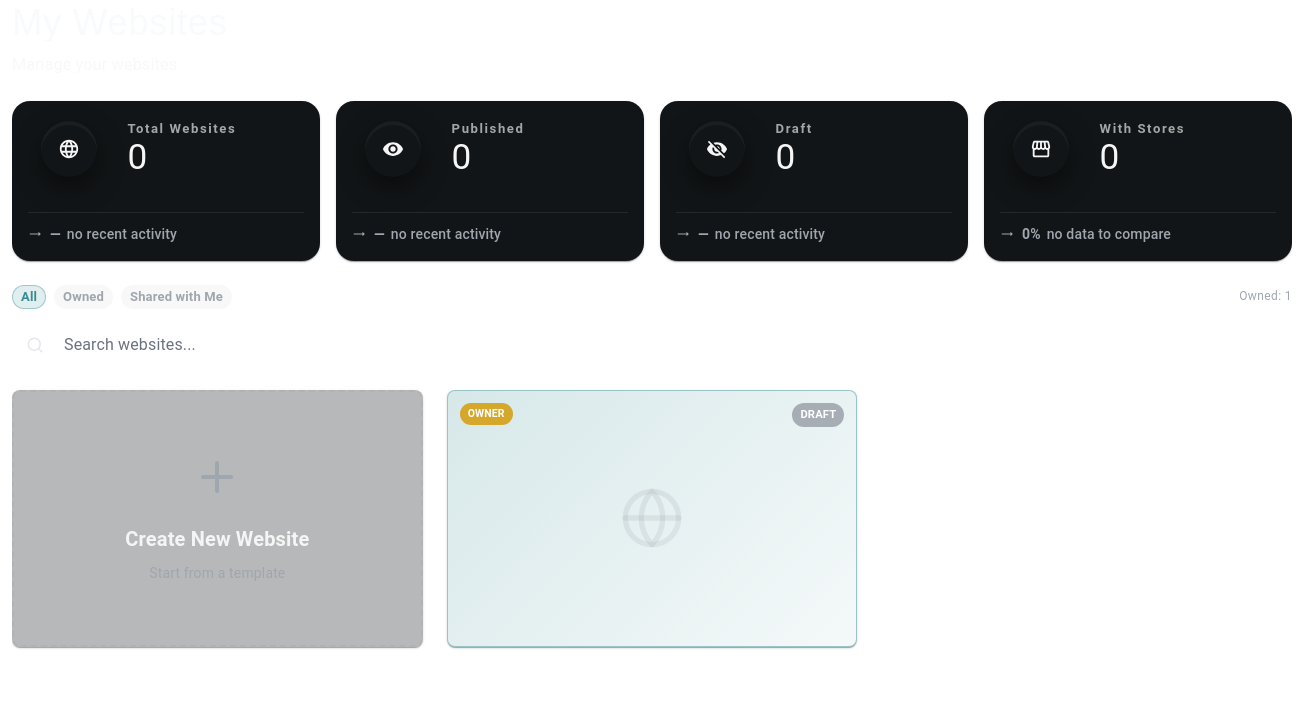
Websites Multi-Tenancy (Step 7.4) › shows empty state for "Shared with Me" when no shared websites
Click the button with test id "filter-shared".
click(176, 297)  # box [121,285,232,309]
(page scrolled)
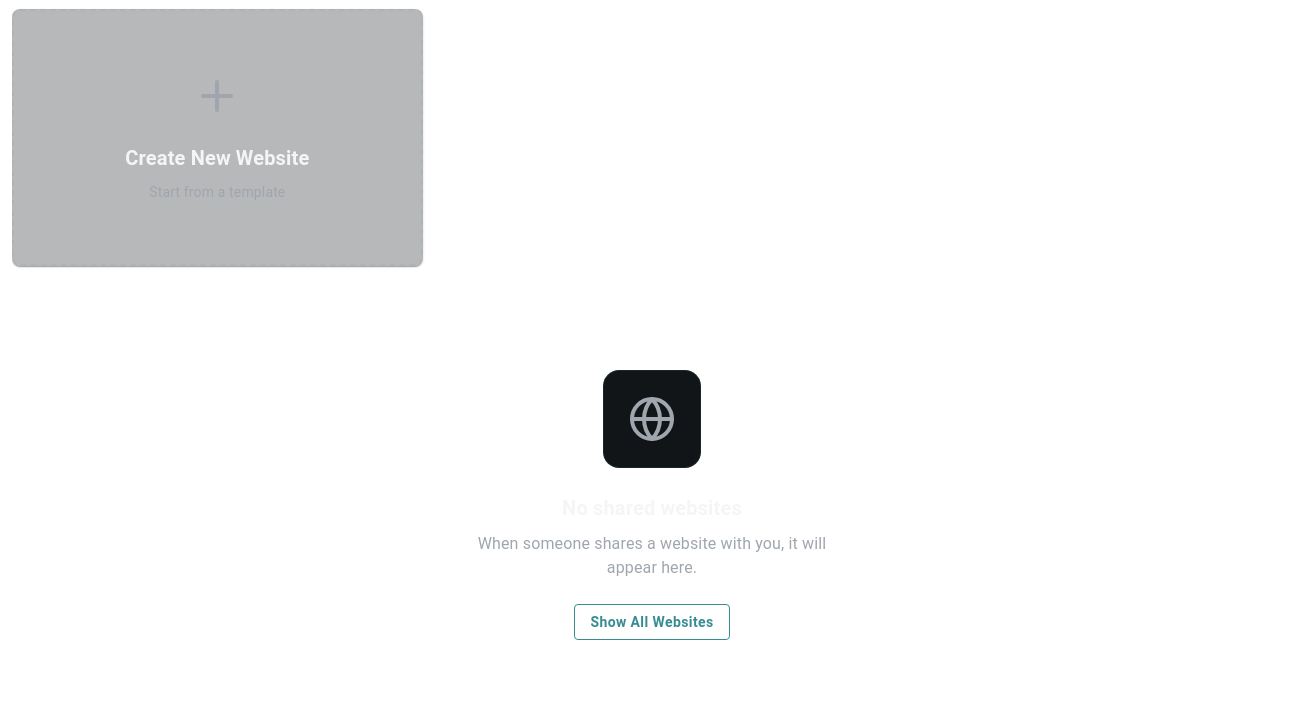
Now the text "When someone shares a website with you, it will appear here." is shown, box [452,532,852,580]
